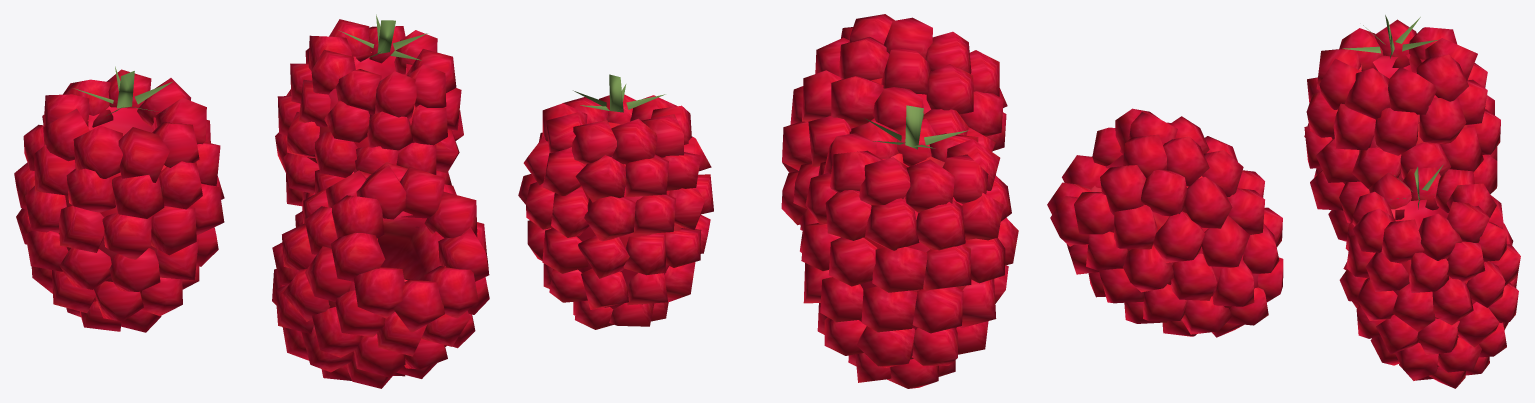
Rendered from NP_Raspberry_Harvest_LOD1.fbx.
The picture shows the model from 3 angles, left to right: view 1: azimuth 30°, elevation 25°; view 2: azimuth 150°, elevation 25°; view 3: azimuth 270°, elevation 25°; orthographic projection. The views are drawn at different scales.
Visible parts, largest first — view 1: NP_Raspberry_Harvest; view 2: NP_Raspberry_Harvest; view 3: NP_Raspberry_Harvest.
Part boxes in pixels (left/top/right/bottom): NP_Raspberry_Harvest: left=14, top=14, right=489, bottom=388; NP_Raspberry_Harvest: left=518, top=14, right=1018, bottom=388; NP_Raspberry_Harvest: left=1047, top=15, right=1520, bottom=388.
Size of the model in its own units: 46.39 by 26.78 by 45.87.
Materials: 1 (1 with a texture image).
